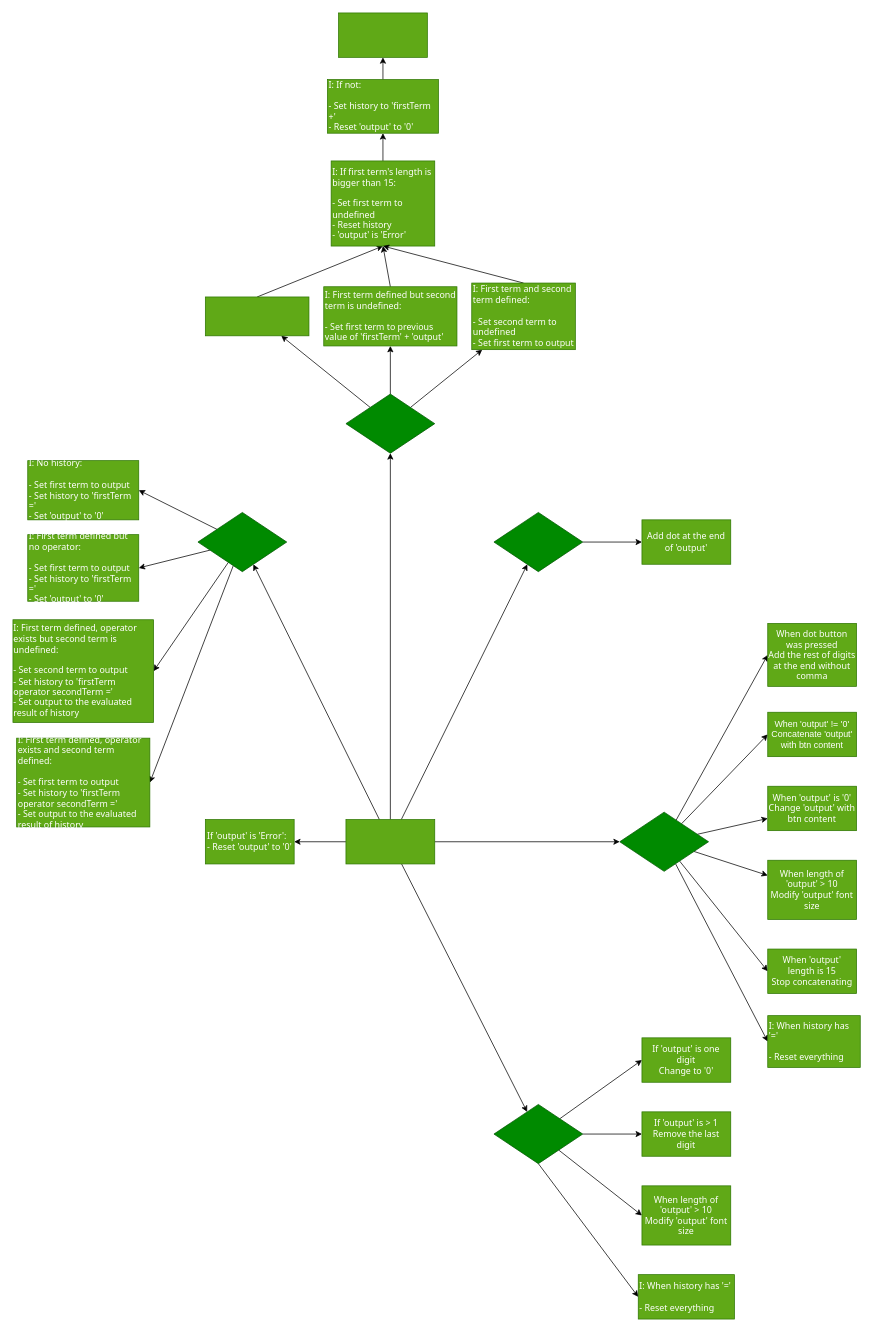
The diagram is 873 pixels wide and 1332 high, and some of its shapes have lost their labels. Here are the shapes that lost their labels. From the top down, the centre of each, then its label:
At point (382, 34): "Reset font-size of output element".
At point (257, 316): "I: If no first term: - Set first term to 'output'".
At point (390, 423): "Click plus button".
At point (242, 542): "Click equal button".
At point (538, 542): "Click dot button".
At point (390, 841): "START".
At point (664, 841): "Click number button".
At point (538, 1134): "Click delete button".
